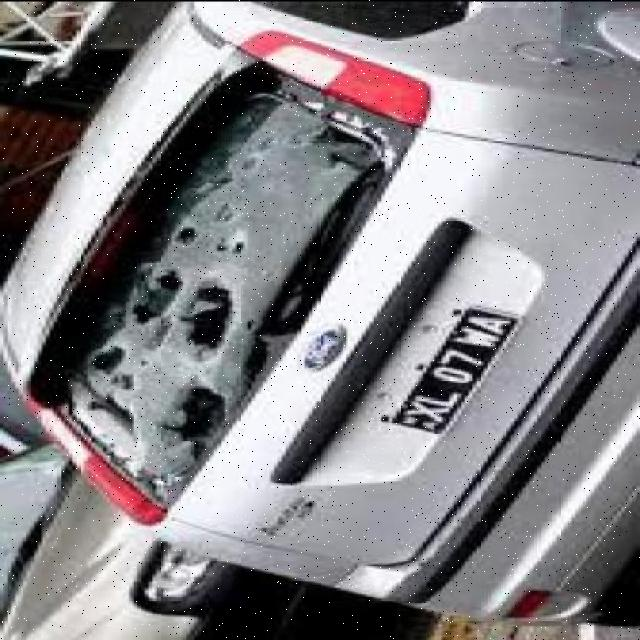damage: (44, 71, 398, 508)
